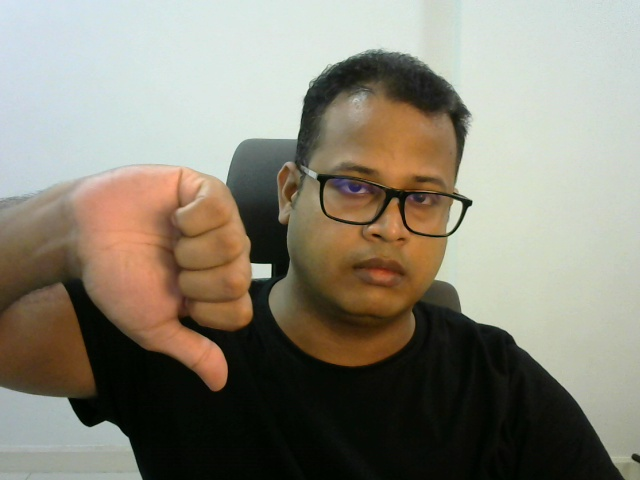ThumbsDown: (73, 163, 256, 398)
